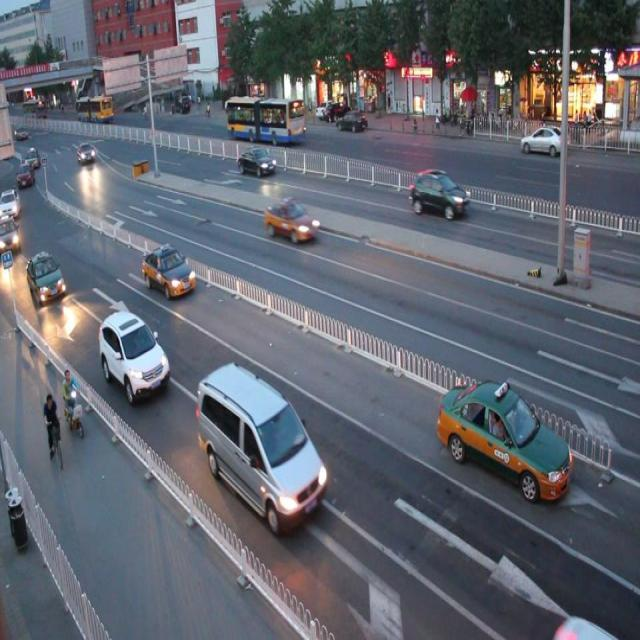car: (197, 361, 326, 531), (438, 375, 570, 502), (98, 309, 170, 399), (408, 168, 469, 218), (144, 245, 195, 298), (264, 198, 318, 244), (27, 249, 64, 304), (236, 146, 276, 177)
van: (226, 93, 305, 144)
